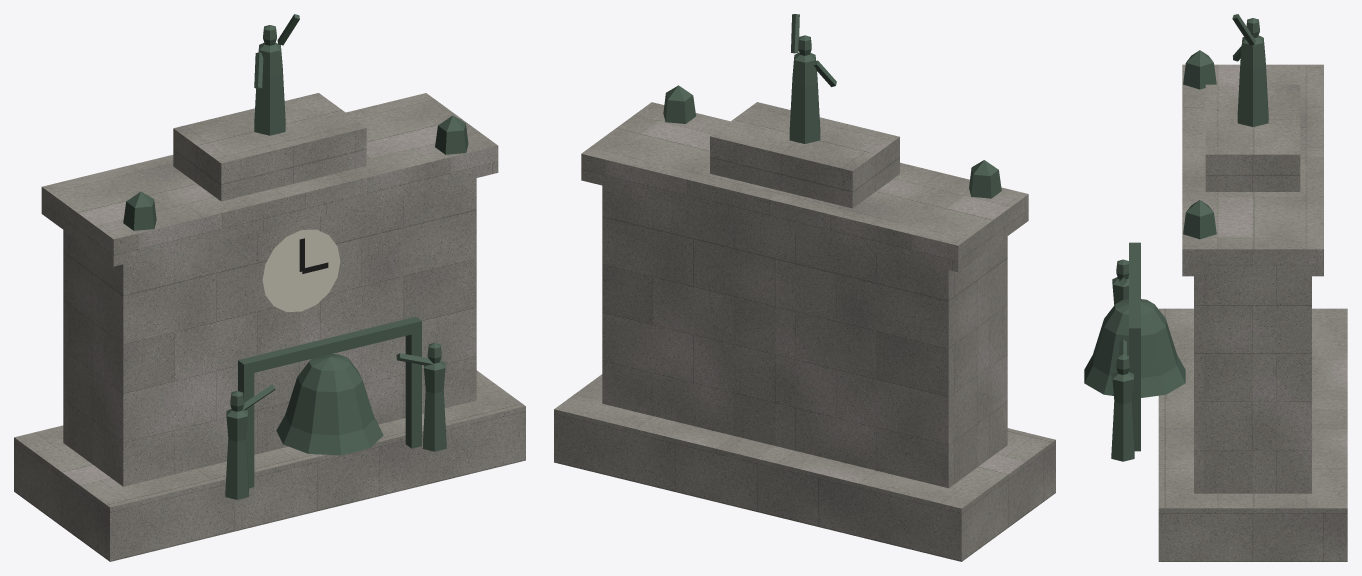
File: new_york_life_clock_paramount.glb
The picture shows the model from 3 angles, left to right: view 1: azimuth 30°, elevation 25°; view 2: azimuth 150°, elevation 25°; view 3: azimuth 270°, elevation 25°; orthographic projection.
Visible parts, largest first — view 1: new_york_life_clock_paramount; view 2: new_york_life_clock_paramount; view 3: new_york_life_clock_paramount.
Boxes of the visible parts, bbox=[...] form: new_york_life_clock_paramount: bbox=[14, 14, 525, 561]; new_york_life_clock_paramount: bbox=[554, 14, 1055, 561]; new_york_life_clock_paramount: bbox=[1084, 14, 1347, 561].
Bounding box in the file's own units: 8 × 8.52 × 4.46.
Materials: 2 (2 with a texture image).
